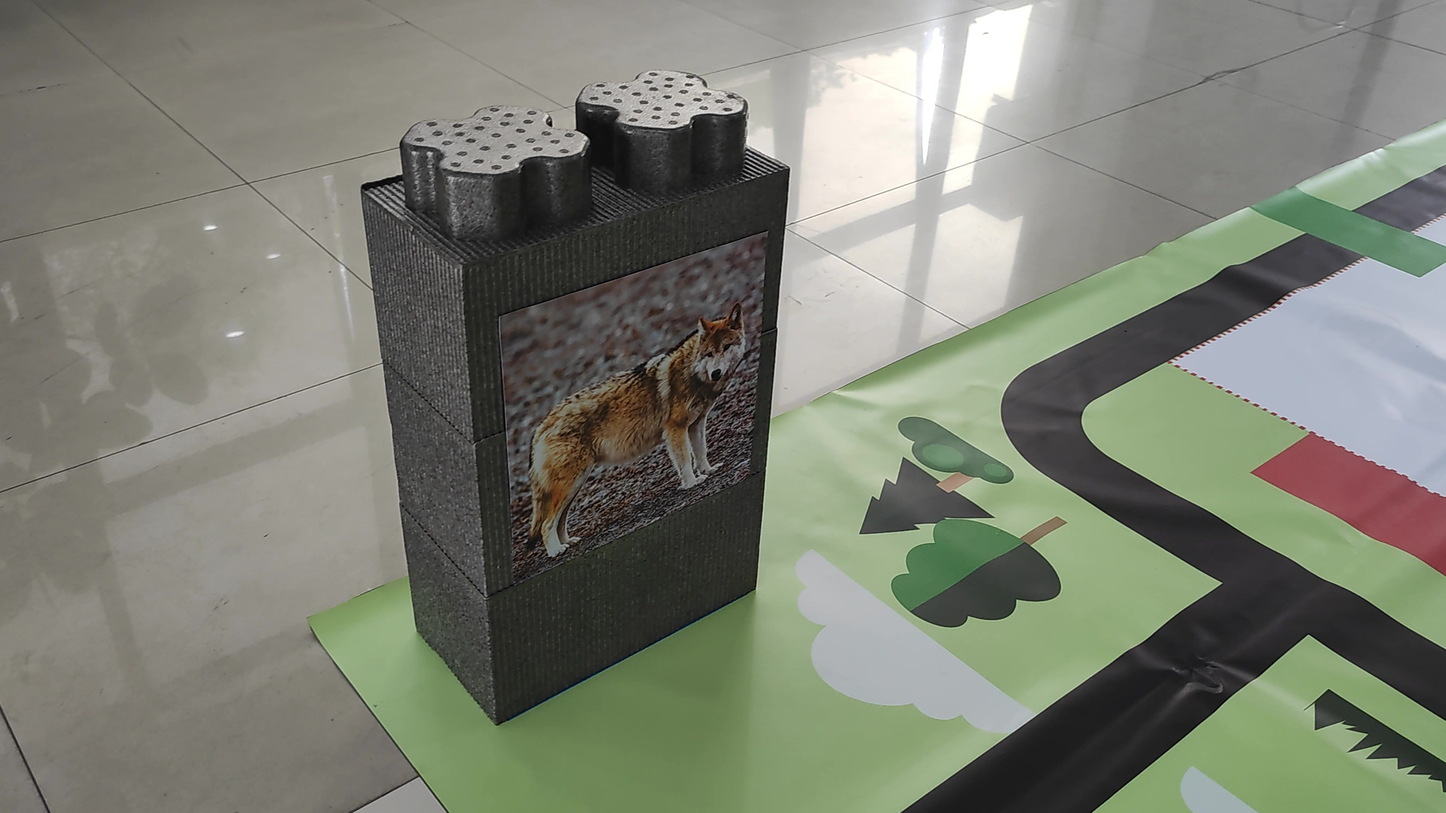wolf: (531, 304, 770, 558)
